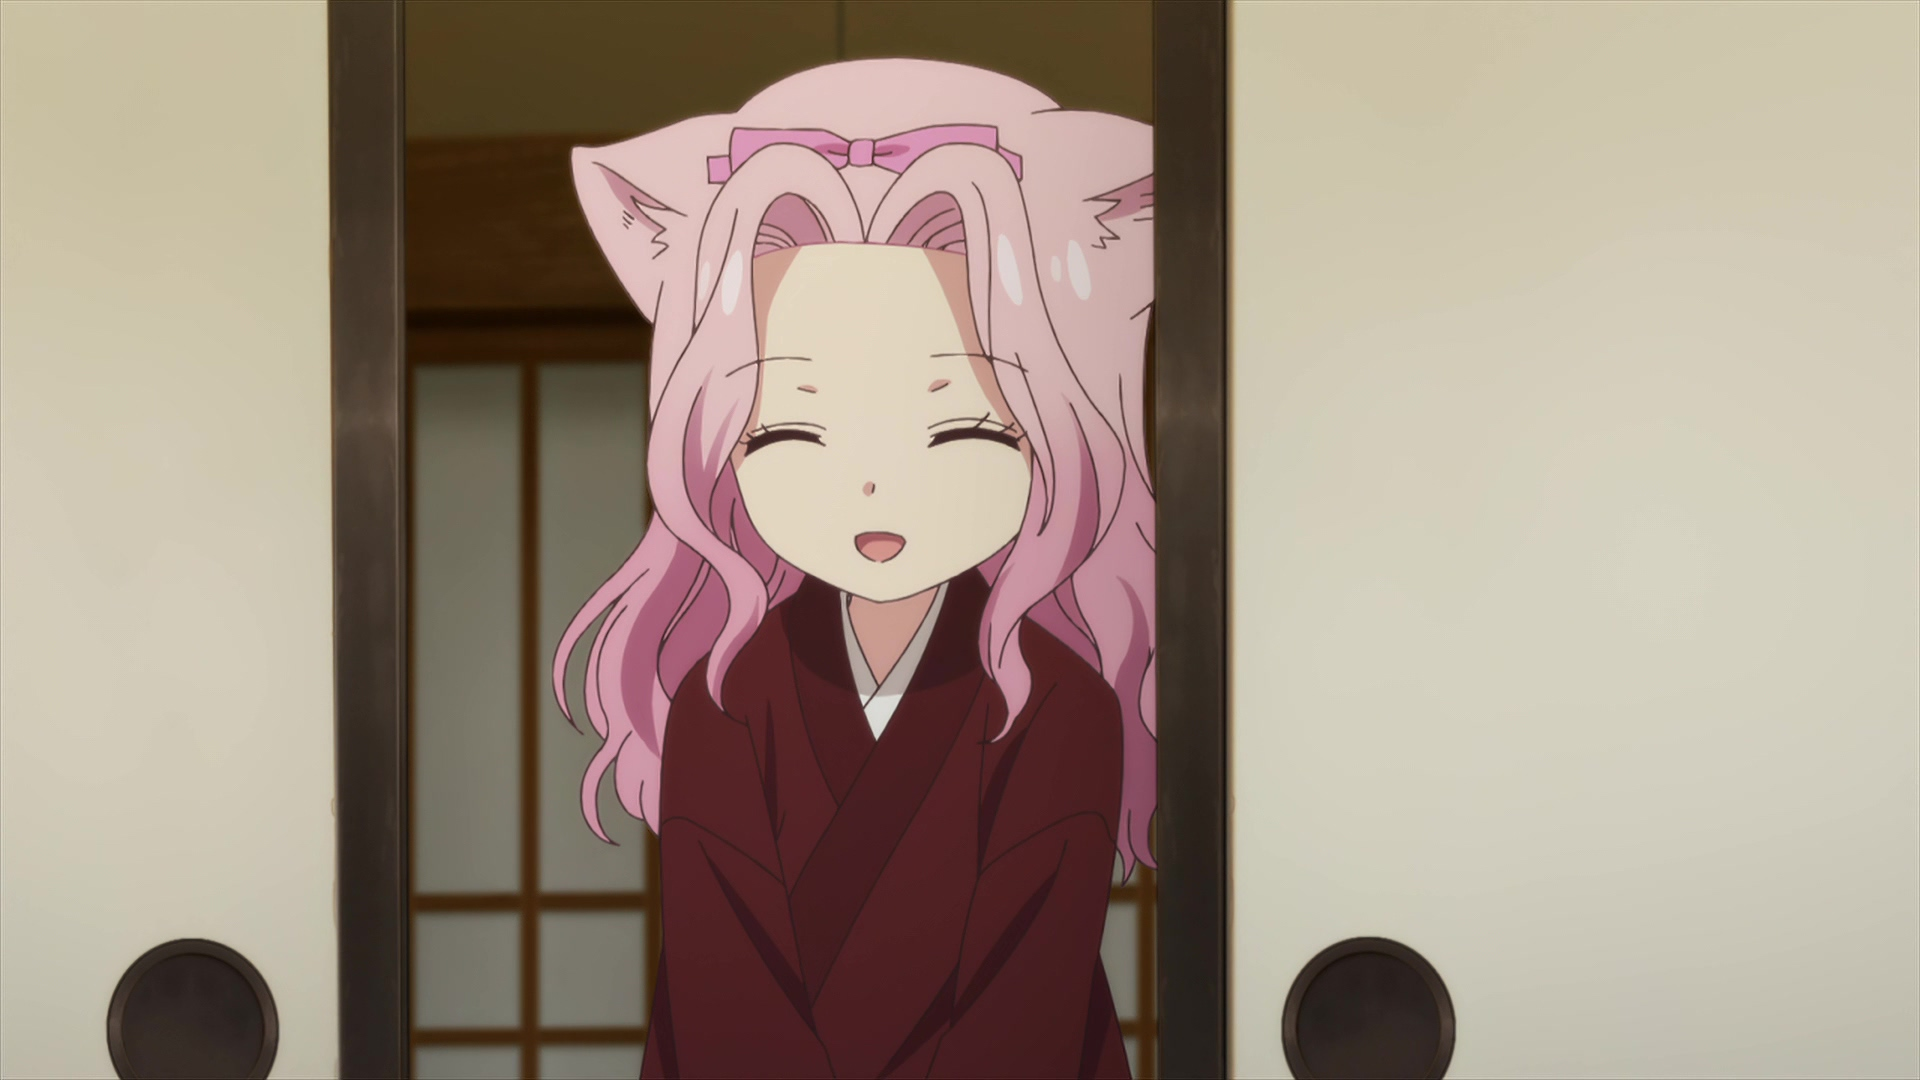莲: (550, 61, 1154, 1080)
